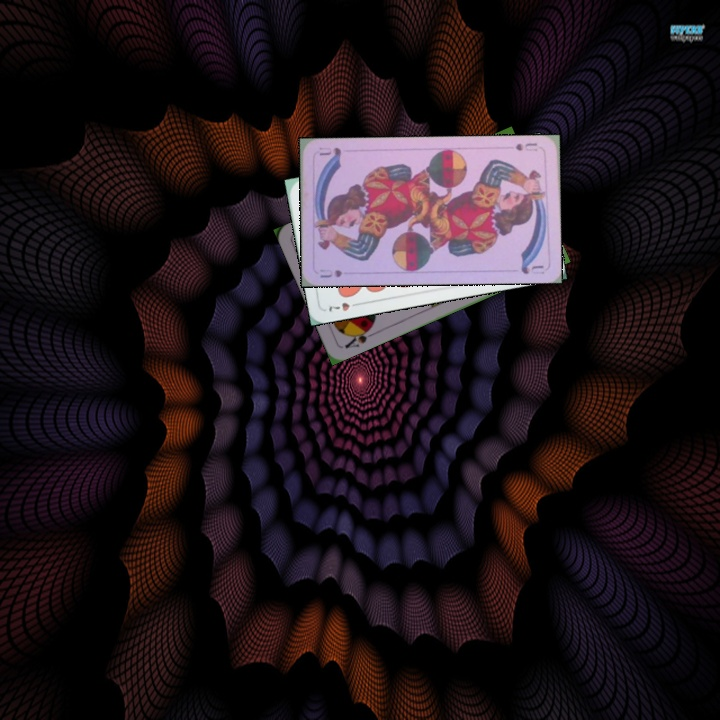H7: (325, 298, 363, 314)
SA: (341, 322, 378, 351)
SU: (316, 265, 345, 280), (511, 139, 540, 154)
